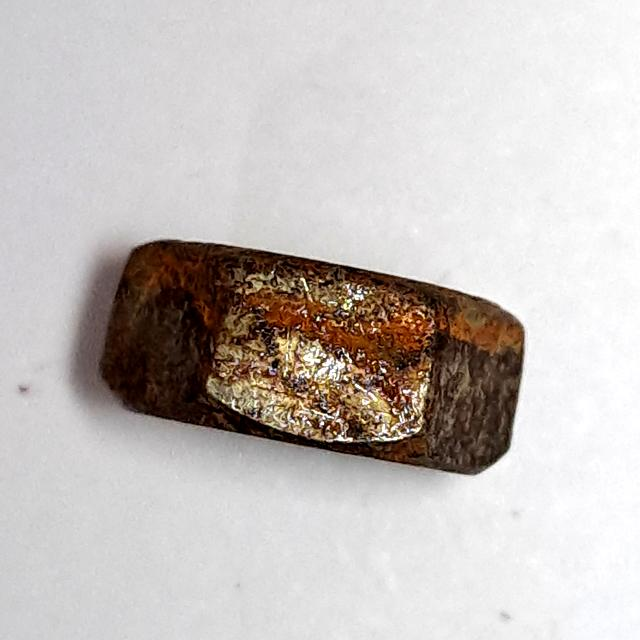Side_Rust: (87, 220, 549, 506)
